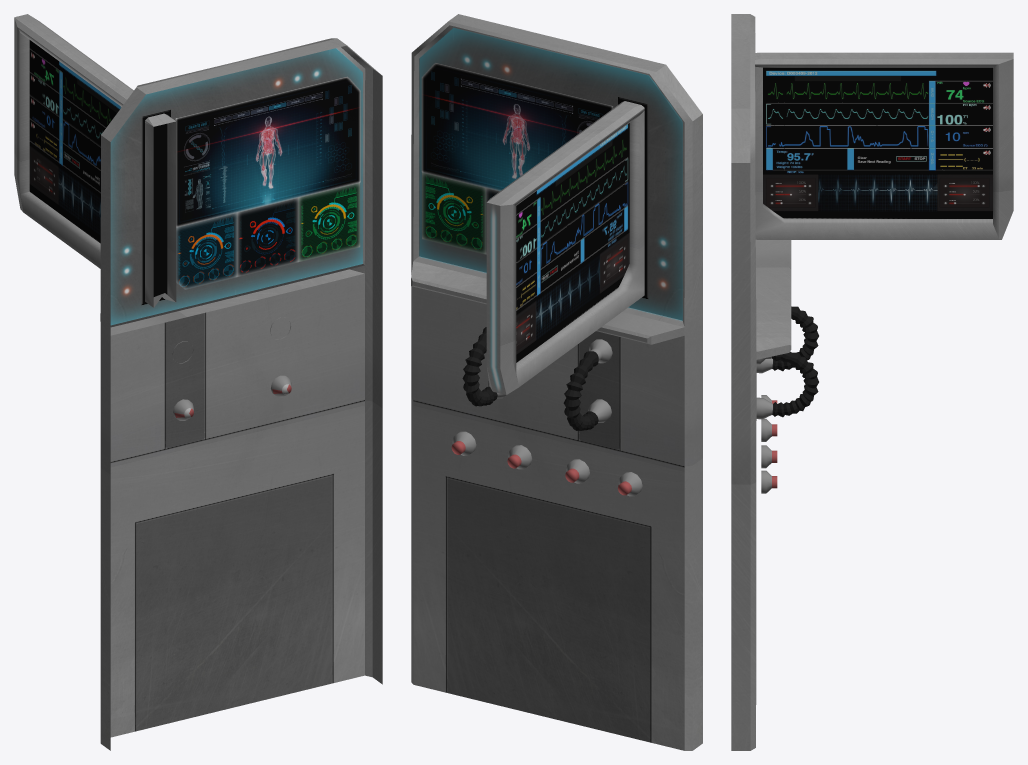
The model's file is Heartmonitor.fbx.
The picture shows the model from 3 angles, left to right: view 1: azimuth 30°, elevation 25°; view 2: azimuth 150°, elevation 25°; view 3: azimuth 270°, elevation 25°; orthographic projection. The views are drawn at different scales.
Parts seen in each view (by area): view 1: pCube1, pCube2, pCylinder12; view 2: pCube1, pCube2, pCylinder12; view 3: pCube2, pCube1, pCylinder12.
Boxes of the visible parts, bbox=[...] form: pCube1: bbox=[100, 38, 382, 750]; pCube2: bbox=[14, 14, 176, 307]; pCylinder12: bbox=[172, 317, 291, 420]; pCube1: bbox=[411, 14, 702, 750]; pCube2: bbox=[486, 101, 644, 394]; pCylinder12: bbox=[451, 327, 642, 496]; pCube2: bbox=[755, 52, 1013, 239]; pCube1: bbox=[731, 14, 791, 750]; pCylinder12: bbox=[756, 306, 818, 493].
Size of the model in its own units: 49.39 by 112 by 45.93.
